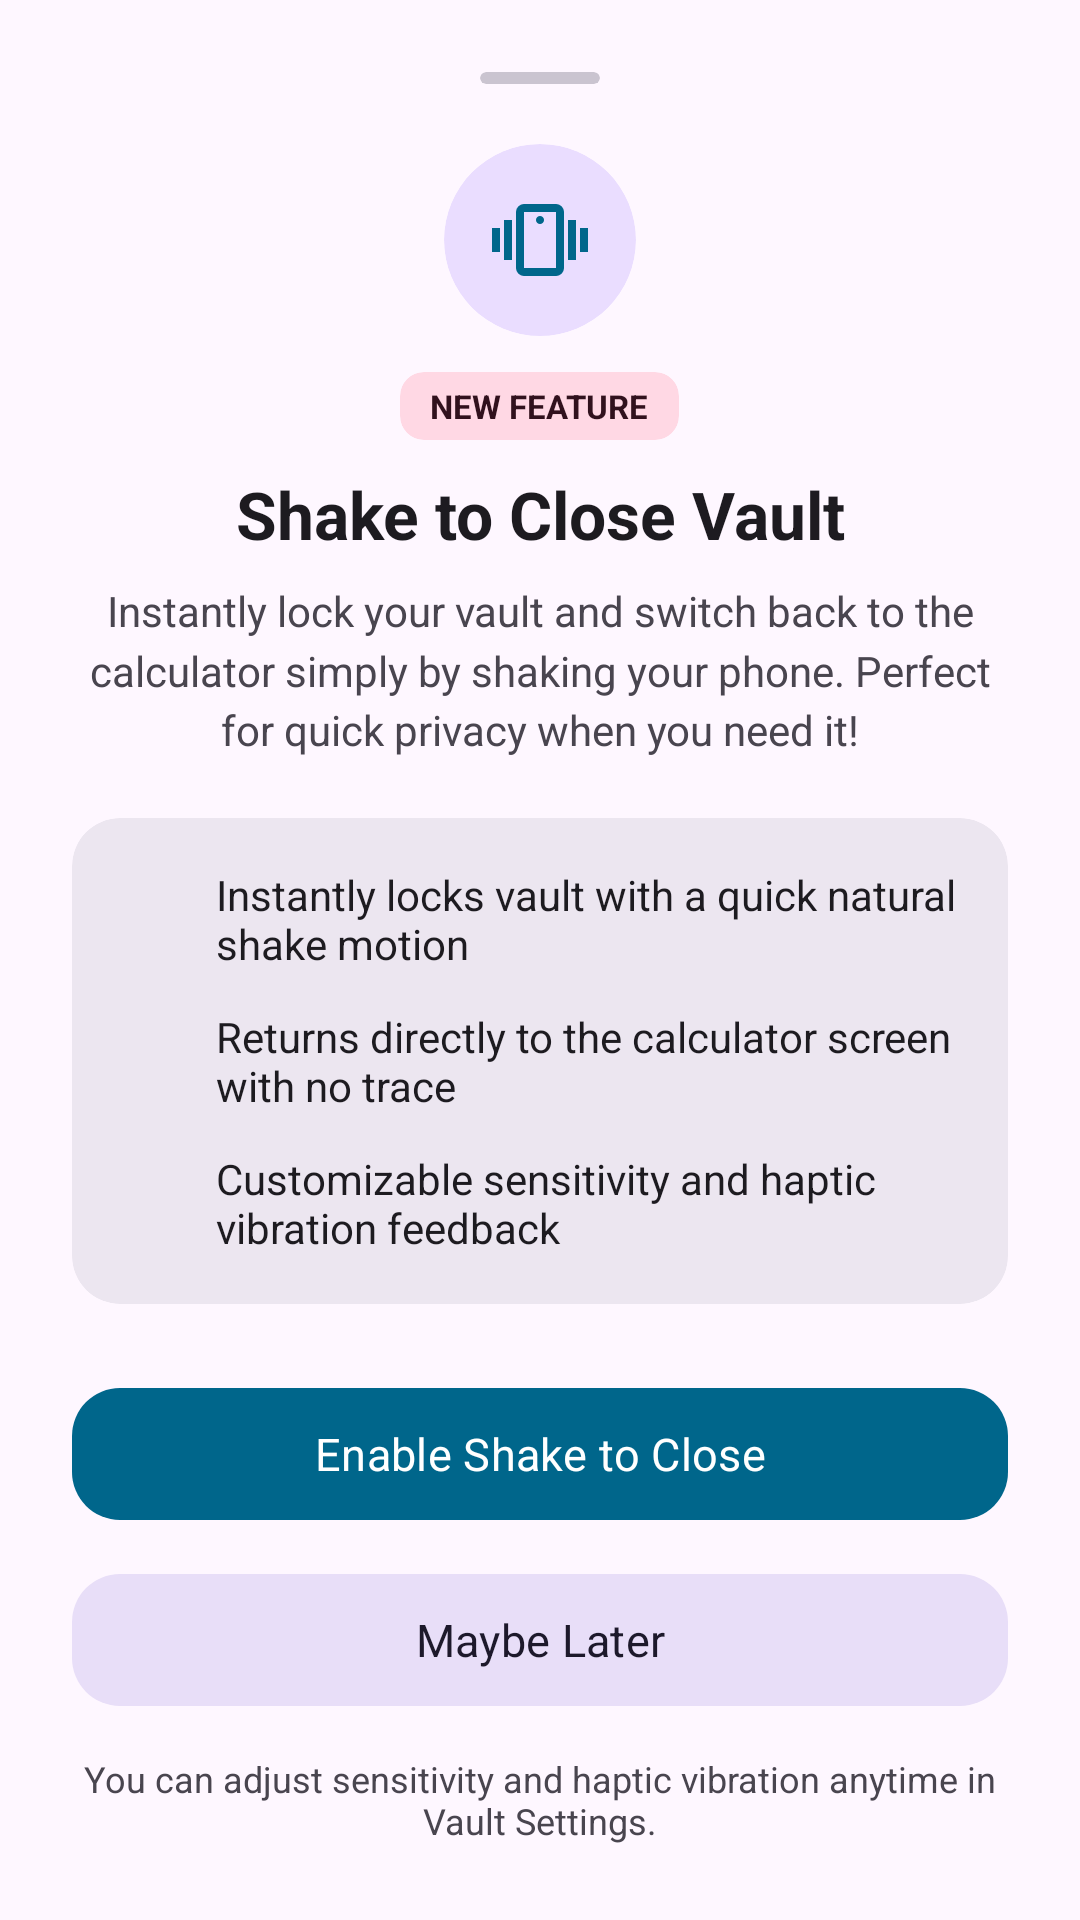

Screen size 1080w x 1920h. Icon name, then its box in pixels as (x1, y1, x2, y2):
mobile vibrate: (492, 204, 588, 276)
